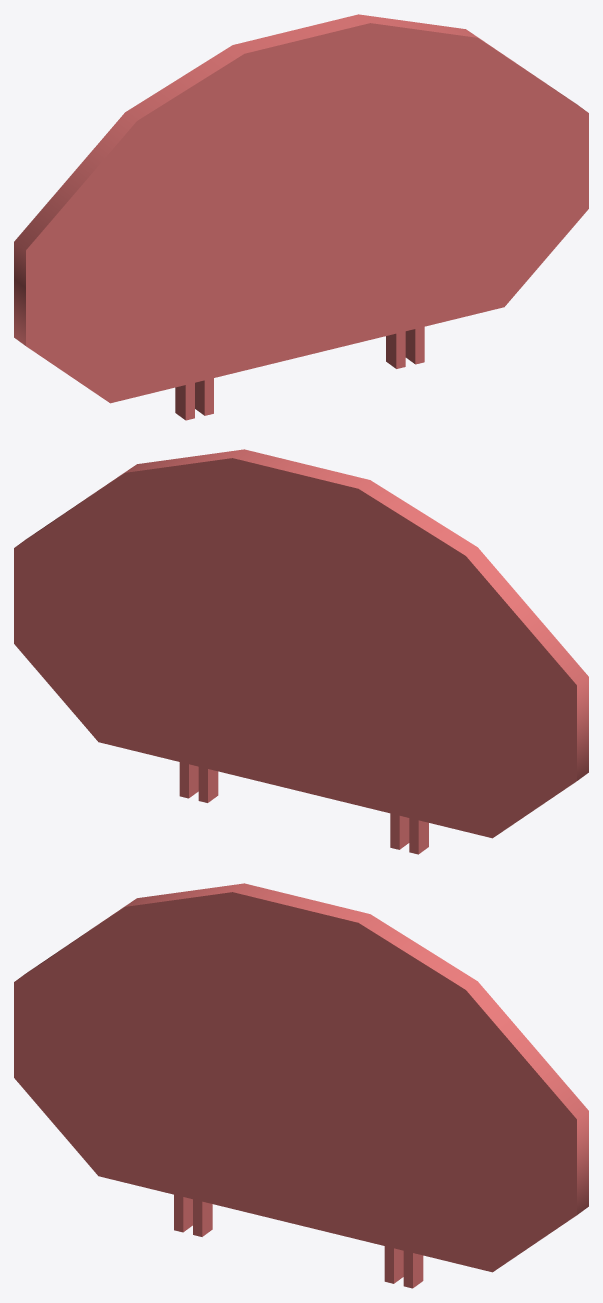
Rendered from MedicalBin_Lid.fbx.
3 views of the same model, one above another, from view 1: azimuth 30°, elevation 25°; view 2: azimuth 150°, elevation 25°; view 3: azimuth 330°, elevation 25° (orthographic).
Visible parts, largest first — view 1: MedicalBin_Lid; view 2: MedicalBin_Lid; view 3: MedicalBin_Lid.
Boxes of the visible parts, x1,y1,x2,y2 form: MedicalBin_Lid: [14, 14, 588, 420]; MedicalBin_Lid: [14, 449, 588, 854]; MedicalBin_Lid: [14, 883, 588, 1288].
Bounding box in the file's own units: 8.16 × 4.88 × 0.2978.
